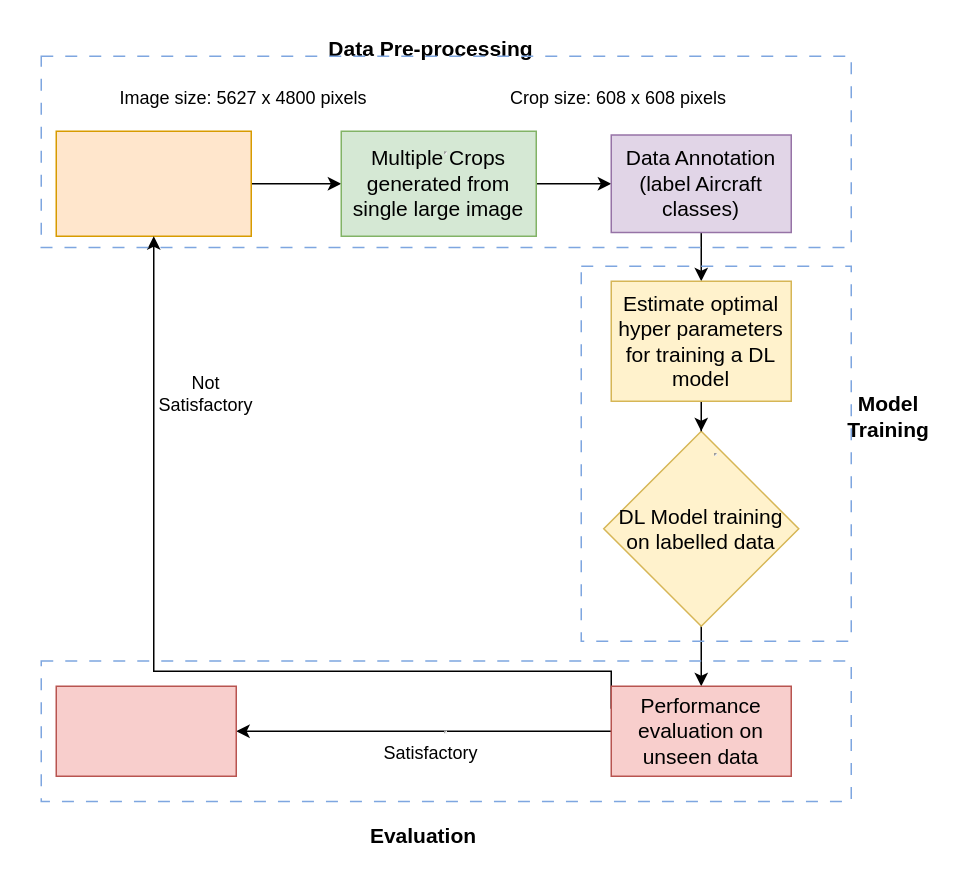
Image size: 959x891. Some labels were removed from this diagram. The shapes that lost their labels are listed below. From the top down, each one's box as (x1, y1, x2, y2) in pixels, then its label:
(55, 130, 251, 236): Download .tiff image from Google Earth Pro
(55, 685, 236, 776): Plot Performance Metrics for each Aircraft class
